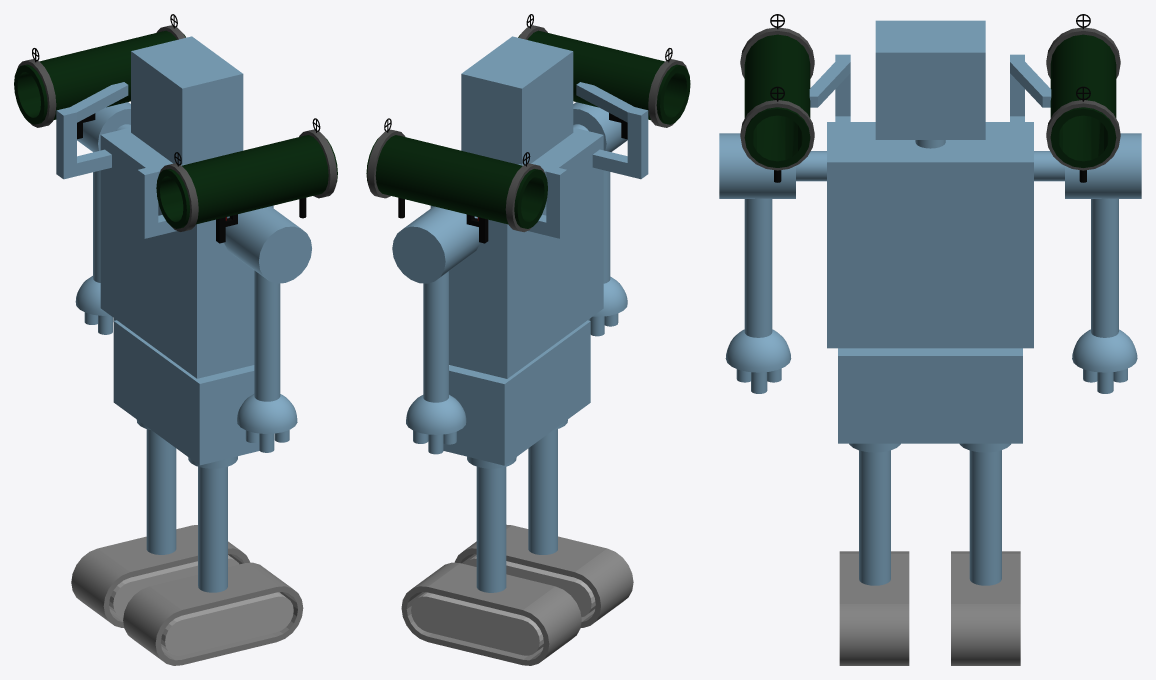
The model's file is Robot (Rocket Launcher).fbx.
The picture shows the model from 3 angles, left to right: view 1: azimuth 30°, elevation 25°; view 2: azimuth 150°, elevation 25°; view 3: azimuth 270°, elevation 25°; orthographic projection. The views are drawn at different scales.
Parts seen in each view (by area): view 1: Body_and_Legs, Rocket_Launcher, Wheels, Head___Head_Joint, Right_Shoulder_Cylinder, Right_arm, Right_Hand, Left_Shoulder_Cylinder, Left_Hand, Left_Arm; view 2: Body_and_Legs, Rocket_Launcher, Wheels, Head___Head_Joint, Left_Shoulder_Cylinder, Left_Arm, Left_Hand, Right_Shoulder_Cylinder, Right_Hand, Right_arm; view 3: Body_and_Legs, Rocket_Launcher, Wheels, Head___Head_Joint, Right_arm, Left_Arm, Right_Shoulder_Cylinder, Left_Shoulder_Cylinder, Right_Hand, Left_Hand, Right_arm_joint, Left_Arm_Joint.
Boxes of the visible parts, left/top/right/bottom form: Body_and_Legs: left=100, top=127, right=273, bottom=592; Rocket_Launcher: left=14, top=14, right=337, bottom=243; Wheels: left=71, top=525, right=303, bottom=665; Head___Head_Joint: left=131, top=36, right=243, bottom=164; Right_Shoulder_Cylinder: left=224, top=206, right=311, bottom=283; Right_arm: left=254, top=270, right=280, bottom=401; Right_Hand: left=237, top=394, right=297, bottom=452; Left_Shoulder_Cylinder: left=77, top=102, right=130, bottom=152; Left_Hand: left=75, top=276, right=116, bottom=334; Left_Arm: left=93, top=170, right=100, bottom=282; Body_and_Legs: left=430, top=127, right=603, bottom=592; Rocket_Launcher: left=366, top=14, right=690, bottom=243; Wheels: left=401, top=524, right=633, bottom=665; Head___Head_Joint: left=461, top=36, right=573, bottom=164; Left_Shoulder_Cylinder: left=392, top=206, right=480, bottom=283; Left_Arm: left=423, top=271, right=448, bottom=402; Left_Hand: left=406, top=394, right=466, bottom=454; Right_Shoulder_Cylinder: left=573, top=102, right=627, bottom=152; Right_Hand: left=588, top=276, right=627, bottom=336; Right_arm: left=603, top=170, right=610, bottom=283; Body_and_Legs: left=827, top=122, right=1033, bottom=585; Rocket_Launcher: left=740, top=14, right=1120, bottom=182; Wheels: left=839, top=551, right=1020, bottom=665; Head___Head_Joint: left=875, top=20, right=985, bottom=148; Right_arm: left=744, top=198, right=772, bottom=337; Left_Arm: left=1091, top=198, right=1118, bottom=337; Right_Shoulder_Cylinder: left=719, top=133, right=795, bottom=198; Left_Shoulder_Cylinder: left=1065, top=133, right=1141, bottom=198; Right_Hand: left=725, top=329, right=791, bottom=393; Left_Hand: left=1072, top=329, right=1137, bottom=393; Right_arm_joint: left=796, top=151, right=826, bottom=181; Left_Arm_Joint: left=1034, top=151, right=1064, bottom=181.
Bounding box in the file's own units: 3.77 × 12.57 × 8.
